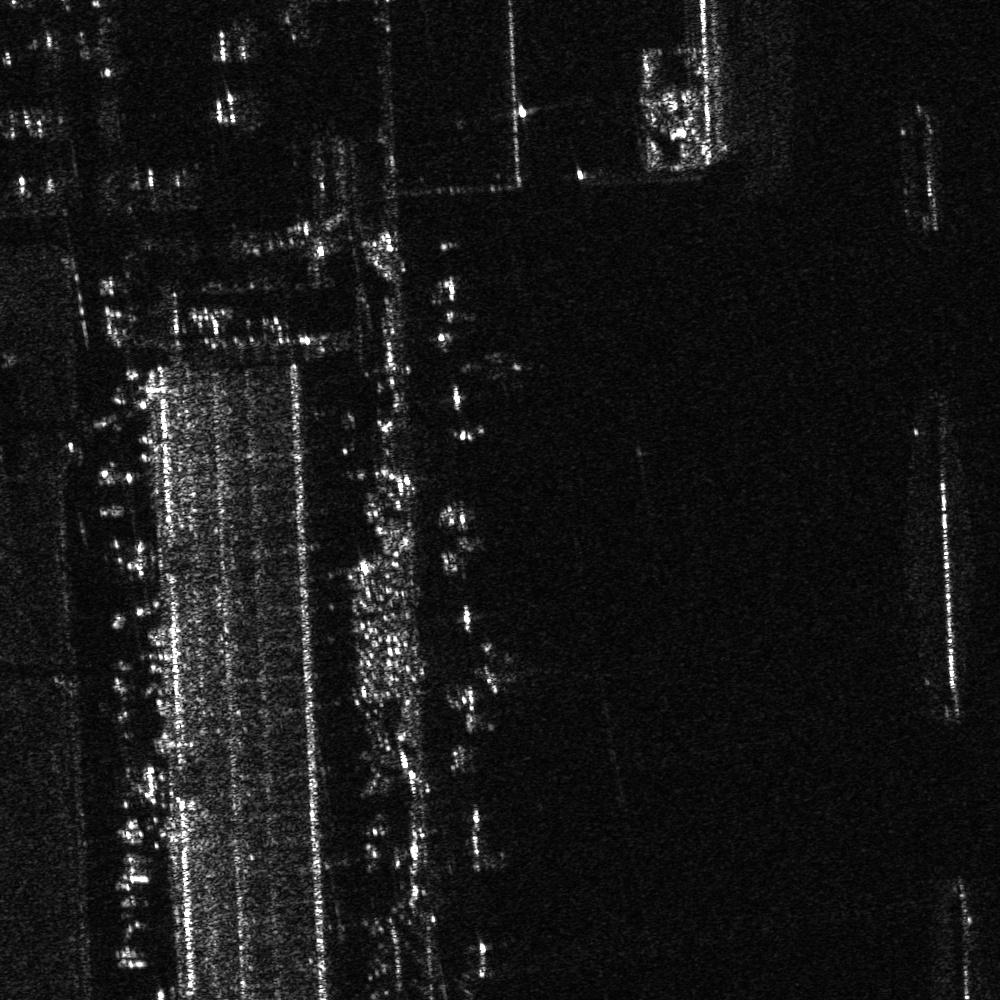Boeing737: (456, 347, 530, 389)
